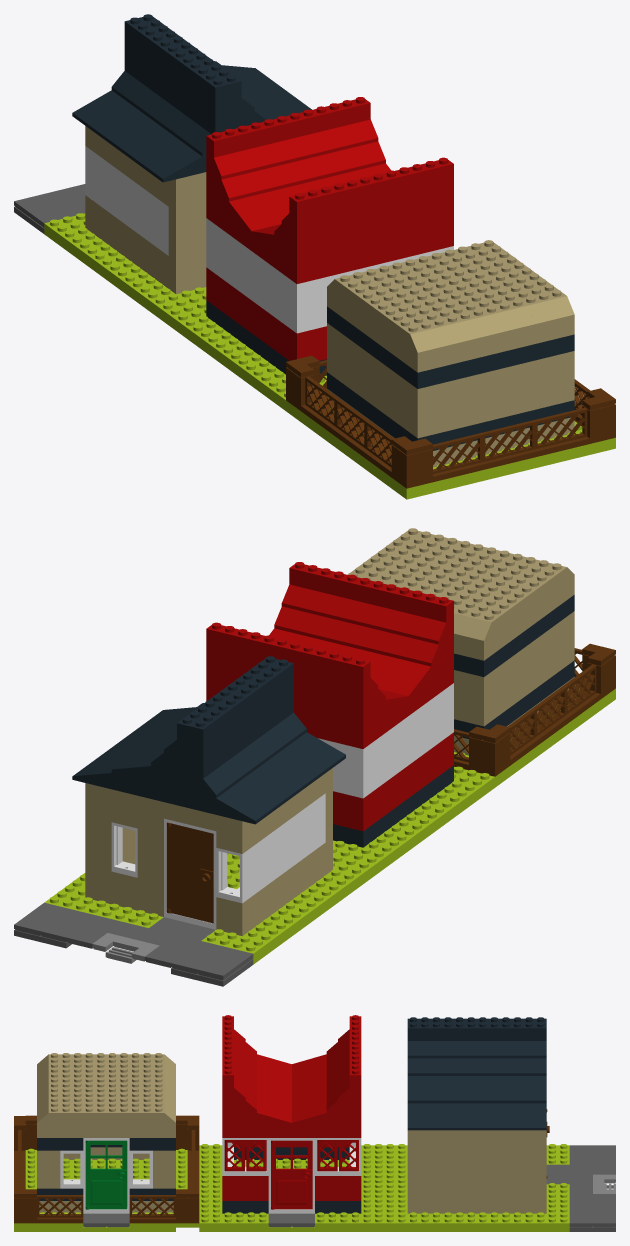
Rendered from Block2-lod0.fbx.
The picture shows the model from 3 angles, top to bottom: view 1: azimuth 30°, elevation 25°; view 2: azimuth 150°, elevation 25°; view 3: azimuth 270°, elevation 25°; orthographic projection. The views are drawn at different scales.
Visible parts, largest first — view 1: Material_5, Material_21, Material_26, Material_192, Material_119, Material_1, Material_199; view 2: Material_5, Material_21, Material_26, Material_119, Material_1, Material_192, Material_199, Material_315; view 3: Material_5, Material_21, Material_26, Material_119, Material_192, Material_199, Material_1, Material_28, Material_315.
Boxes of the visible parts, x1,y1,x2,y2 form: Material_5: (85,126,574,467); Material_21: (206,97,453,360); Material_26: (72,14,574,450); Material_192: (286,355,615,488); Material_119: (44,213,615,499); Material_1: (85,146,453,333); Material_199: (14,184,85,233); Material_5: (85,528,574,935); Material_21: (206,562,453,831); Material_26: (72,595,574,847); Material_119: (44,685,615,964); Material_1: (111,683,453,929); Material_192: (166,643,615,923); Material_199: (14,902,253,986); Material_315: (92,933,159,963); Material_5: (37,1053,546,1213); Material_21: (222,1015,361,1209); Material_26: (37,1017,546,1213); Material_119: (14,1144,569,1231); Material_192: (14,1109,549,1223); Material_199: (83,1145,615,1231); Material_1: (60,1138,361,1213); Material_28: (85,1140,127,1209); Material_315: (593,1174,615,1193).
Size of the model in its own units: 12.8 by 12.34 by 41.6.
